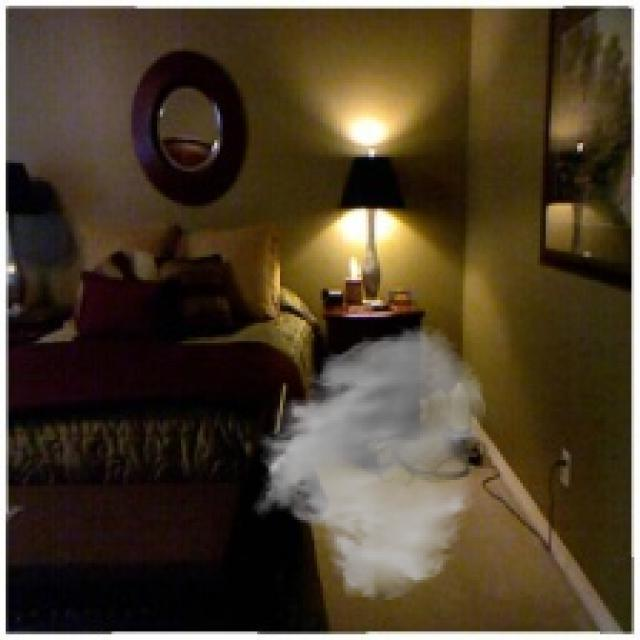Smoke: (252, 323, 488, 603)
